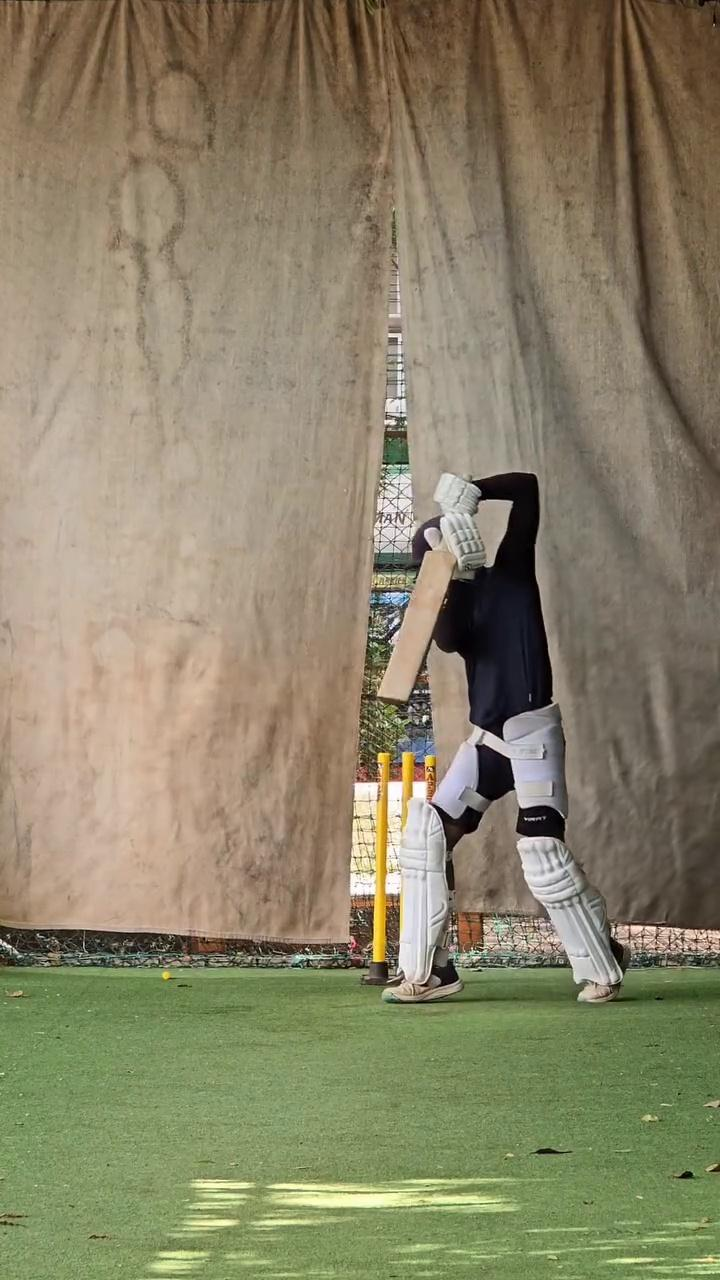bat: (373, 543, 459, 714)
